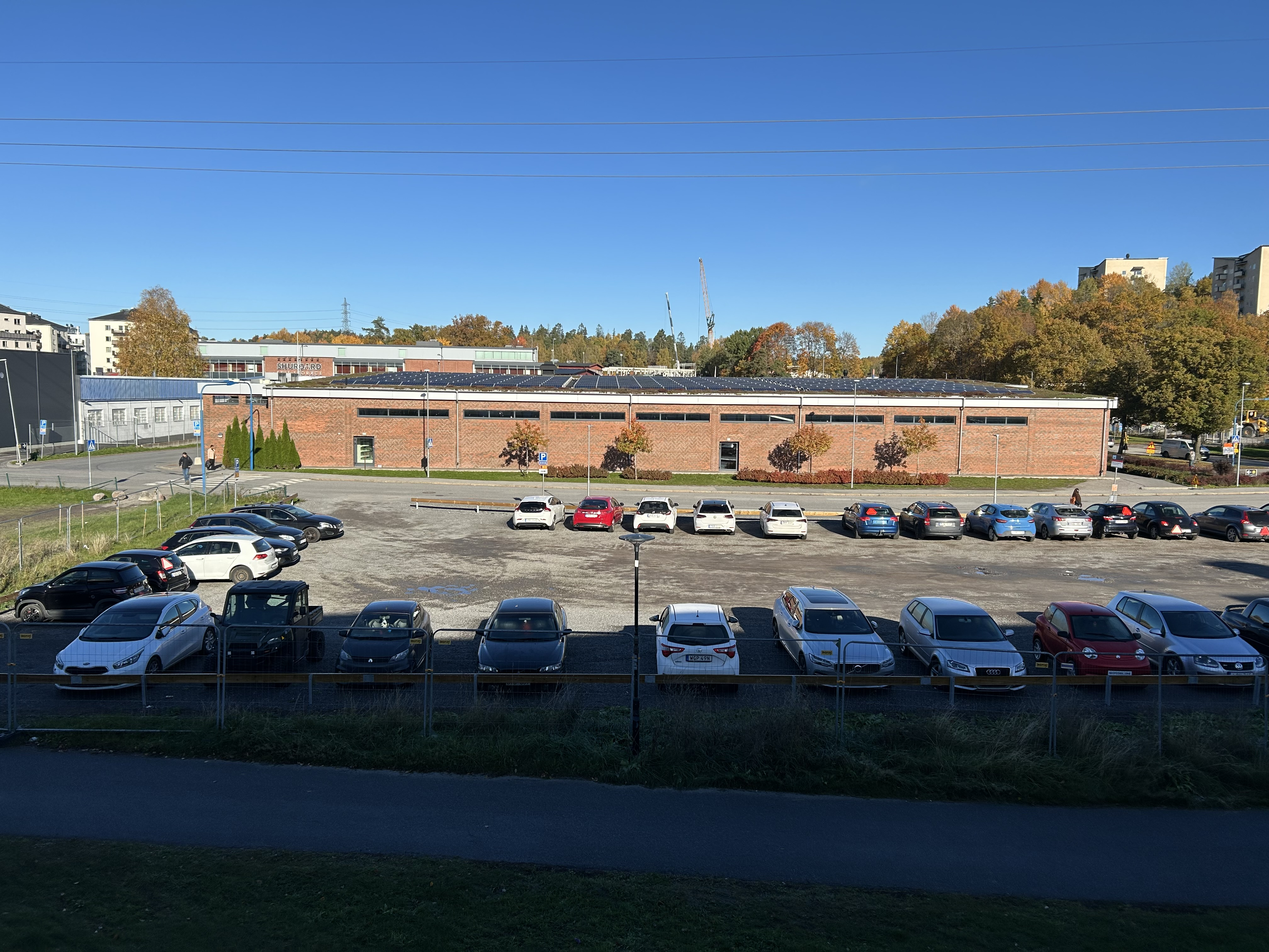Car: (46, 590, 220, 693), (1106, 591, 1265, 692), (765, 581, 895, 692), (205, 578, 327, 689), (896, 593, 1027, 694), (1031, 597, 1148, 689), (471, 597, 576, 691), (12, 559, 154, 624), (333, 598, 435, 688), (649, 597, 741, 690), (162, 526, 300, 565), (166, 535, 275, 582), (230, 502, 344, 543), (192, 510, 307, 549), (104, 546, 192, 593), (1219, 593, 1269, 666), (1128, 500, 1199, 542), (1190, 504, 1268, 542), (965, 502, 1036, 543), (1026, 500, 1092, 542), (896, 501, 964, 541), (840, 502, 901, 540), (510, 493, 567, 532), (758, 499, 810, 541), (1083, 503, 1139, 540), (571, 494, 624, 533), (690, 495, 738, 537), (632, 494, 679, 535)
